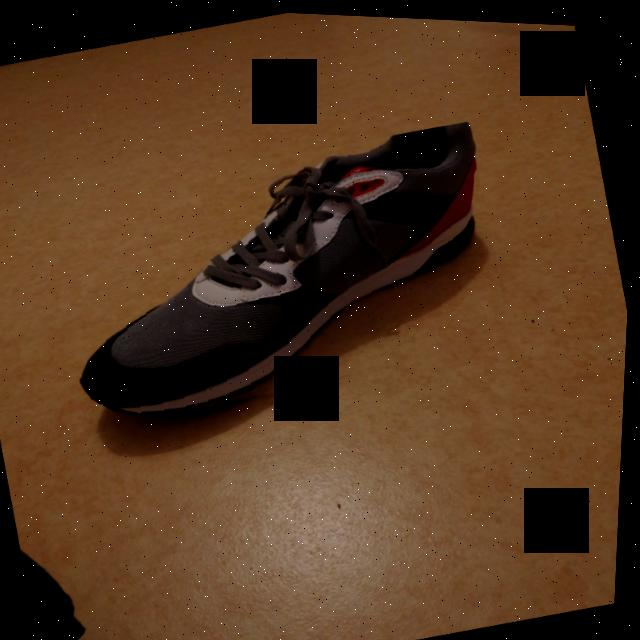shoe: (40, 101, 526, 448)
